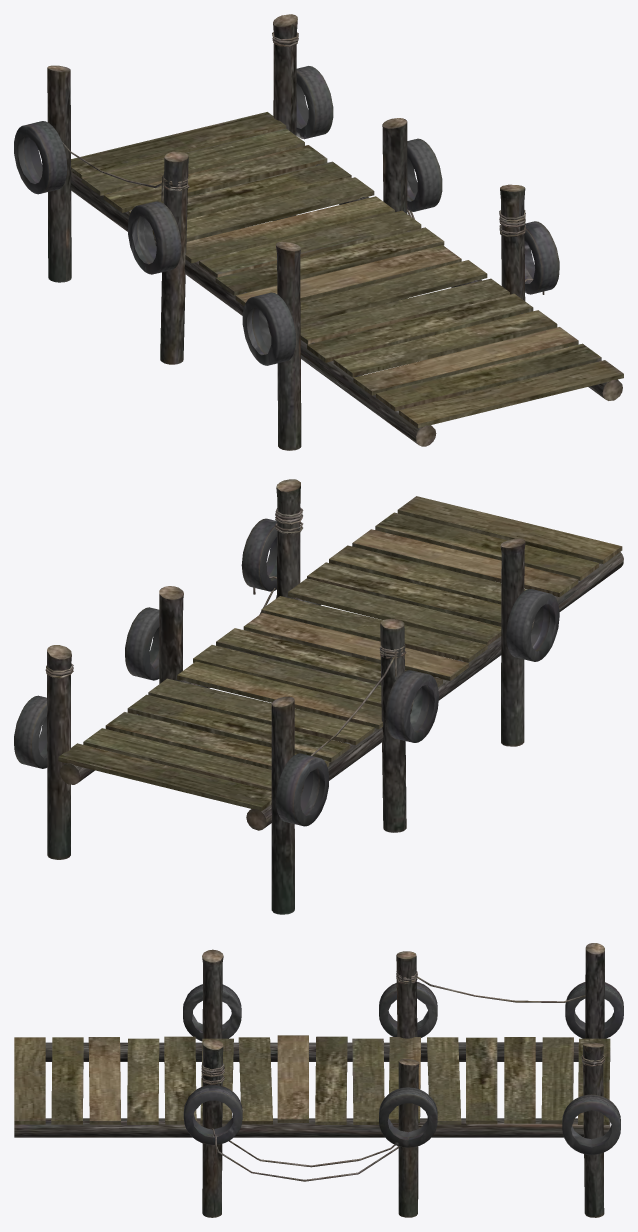
The model's file is old-pier.zfix-v14.lod0.glb.
3 views of the same model, one above another, from view 1: azimuth 30°, elevation 25°; view 2: azimuth 150°, elevation 25°; view 3: azimuth 270°, elevation 25° (orthographic). The views are drawn at different scales.
Visible parts, largest first — view 1: defaultMaterial; view 2: defaultMaterial; view 3: defaultMaterial.
Boxes of the visible parts, x1=… form: defaultMaterial: x1=14, y1=14, x2=623, y2=450; defaultMaterial: x1=14, y1=479, x2=623, y2=914; defaultMaterial: x1=14, y1=943, x2=623, y2=1217.
Bounding box in the file's own units: 18.14 × 12.72 × 40.01.
1 material, 1 textured.
